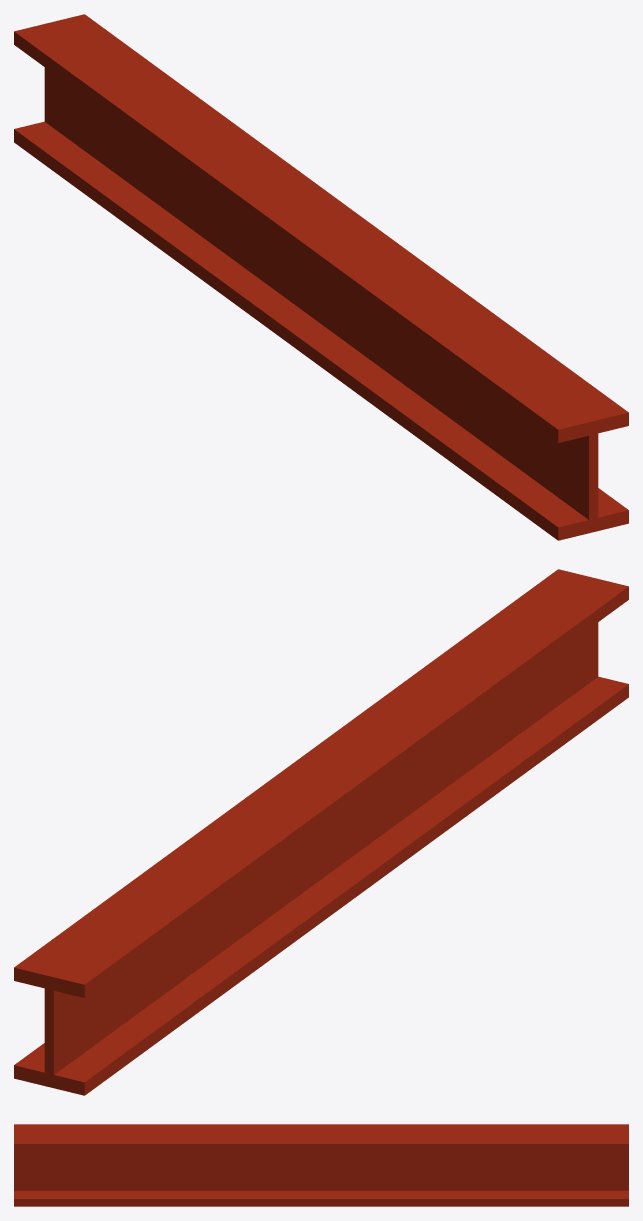
The model's file is Iron_Frame.fbx.
The picture shows the model from 3 angles, top to bottom: view 1: azimuth 30°, elevation 25°; view 2: azimuth 150°, elevation 25°; view 3: azimuth 270°, elevation 25°; orthographic projection. The views are drawn at different scales.
Parts seen in each view (by area): view 1: Cube; view 2: Cube; view 3: Cube.
Boxes of the visible parts, left/top/right/bottom form: Cube: left=14, top=14, right=628, bottom=540; Cube: left=14, top=569, right=628, bottom=1095; Cube: left=14, top=1124, right=628, bottom=1206.
Bounding box in the file's own units: 30 × 45 × 400.
